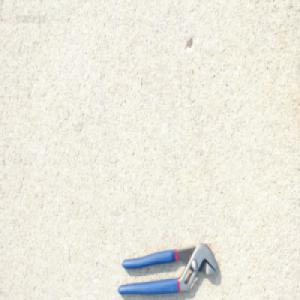Pliers: (118, 241, 218, 291)
